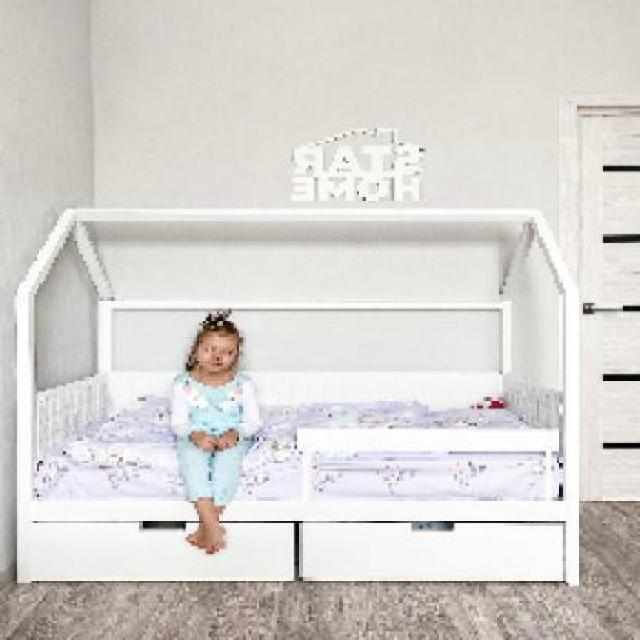child: (169, 310, 265, 556)
